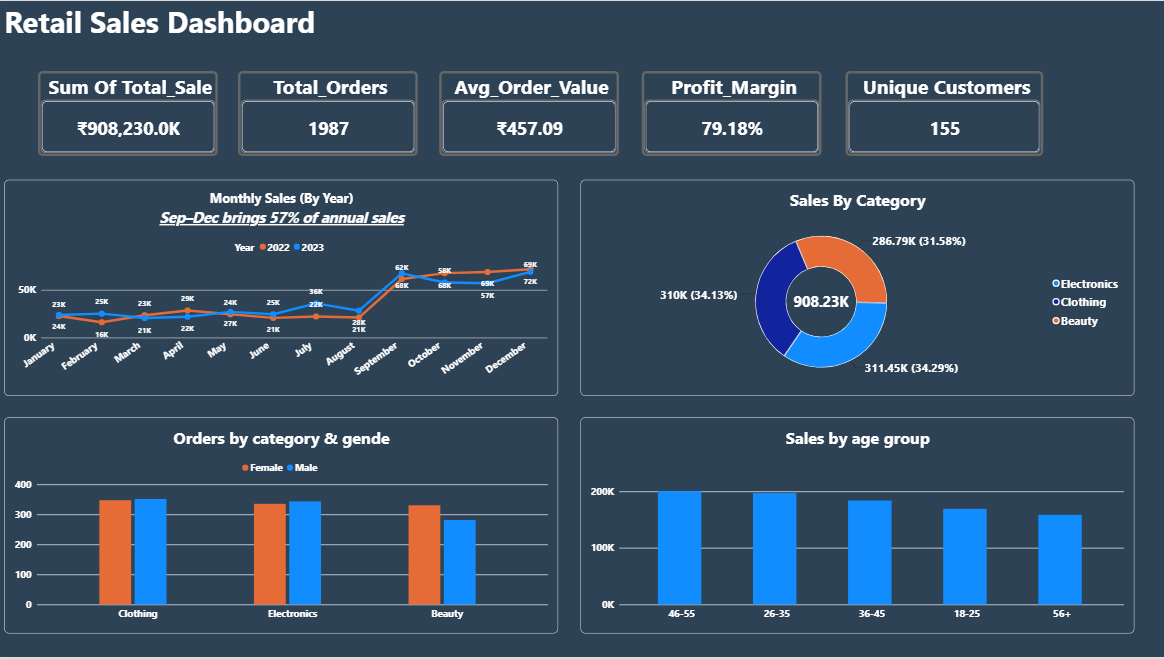

The page's visual inventory and layout, read from the dashboard file:
{"tool":"powerbi","page":{"name":"Retail_Sales_Dashboard","canvas":[1920,1080],"ordinal":0},"visuals":[{"type":"textbox","box":[10.3,0,533.1,279.9],"z":0},{"type":"cardVisual","title":"Sum Of Total_Sale","fields":{"Data":["retail_sales_db retail_sales.Total Sales"]},"box":[65.9,115.3,296.4,140],"z":1000},{"type":"cardVisual","title":"Total_Orders","fields":{"Data":["retail_sales_db retail_sales.Total Orders"]},"box":[395.2,115.3,296.4,140],"z":2000},{"type":"cardVisual","title":"Avg_Order_Value","fields":{"Data":["retail_sales_db retail_sales.Avg Order Value"]},"box":[726.6,115.3,296.4,140],"z":3000},{"type":"cardVisual","title":"Profit_Margin","fields":{"Data":["retail_sales_db retail_sales.Gross Margin %"]},"box":[1060,115.3,296.4,140],"z":4000},{"type":"cardVisual","title":"Unique Customers","fields":{"Data":["retail_sales_db retail_sales.Unique Customers"]},"box":[1395.5,115.3,325.2,140],"z":5000},{"type":"lineChart","title":"Monthly Sales (By Year)","fields":{"Category":["retail_sales_db retail_sales.Month"],"Series":["retail_sales_db retail_sales.Year"],"Y":["Sum(retail_sales_db retail_sales.total_sale)"]},"box":[10.3,294.3,911.8,356.1],"z":5001},{"type":"donutChart","title":"Sales By Category","fields":{"Category":["retail_sales_db retail_sales.category"],"Y":["retail_sales_db retail_sales.Total Sales"]},"box":[959.2,294.3,912,356],"z":5002},{"type":"clusteredColumnChart","title":"Orders by category & gende","fields":{"Category":["retail_sales_db retail_sales.category"],"Series":["retail_sales_db retail_sales.gender"],"Y":["retail_sales_db retail_sales.Total Orders"]},"box":[10.3,685.4,912,356],"z":5003},{"type":"clusteredColumnChart","title":"Sales by age group","fields":{"Category":["retail_sales_db retail_sales.Age Group"],"Y":["Sum(retail_sales_db retail_sales.total_sale)"]},"box":[959.2,685.4,912,356],"z":5004}]}

Visuals, with their boxes in screenshot pixels (x1, y1, x2, y2), scaled from the page's 1920x1080 canvas onto the 1164x659 screenshot:
textbox: 6:0:329:171
"Sum Of Total_Sale" cardVisual: 40:70:220:156
"Total_Orders" cardVisual: 240:70:419:156
"Avg_Order_Value" cardVisual: 441:70:620:156
"Profit_Margin" cardVisual: 643:70:822:156
"Unique Customers" cardVisual: 846:70:1043:156
"Monthly Sales (By Year)" lineChart: 6:180:559:397
"Sales By Category" donutChart: 582:180:1134:397
"Orders by category & gende" clusteredColumnChart: 6:418:559:635
"Sales by age group" clusteredColumnChart: 582:418:1134:635
